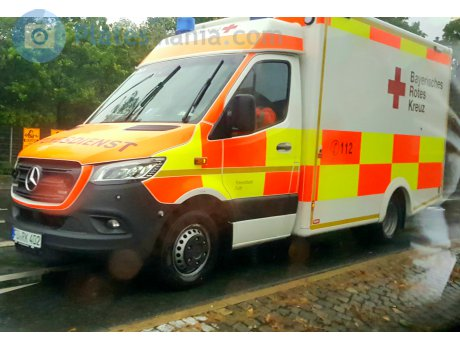License Plates: (5, 225, 49, 246)
